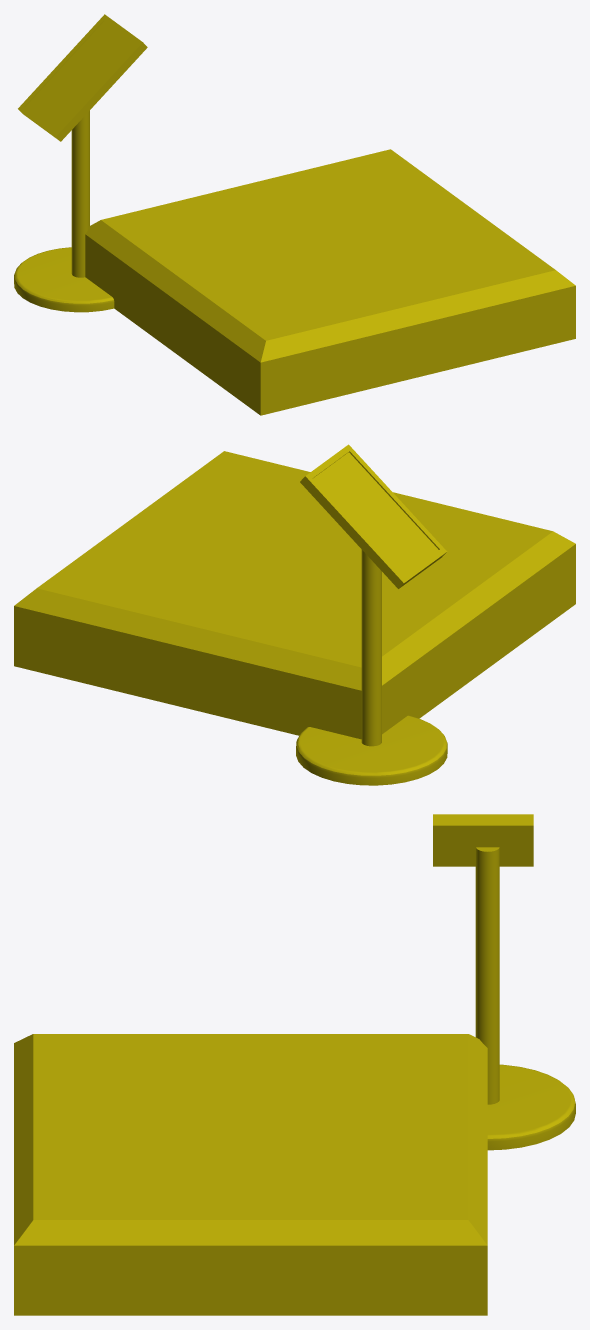
File: AHDE_Eventplat&Panel_V3.fbx
3 views of the same model, one above another, from view 1: azimuth 30°, elevation 25°; view 2: azimuth 150°, elevation 25°; view 3: azimuth 270°, elevation 25° (orthographic). The views are drawn at different scales.
Visible parts, largest first — view 1: EventPlatform, Panel; view 2: EventPlatform, Panel; view 3: EventPlatform, Panel.
Part boxes in pixels (bbox=[...]): EventPlatform: bbox=[85, 149, 575, 415]; Panel: bbox=[14, 14, 147, 312]; EventPlatform: bbox=[14, 451, 575, 739]; Panel: bbox=[296, 444, 447, 785]; EventPlatform: bbox=[14, 1034, 487, 1315]; Panel: bbox=[433, 814, 575, 1150].
Size of the model in its own units: 236 by 149 by 234.
